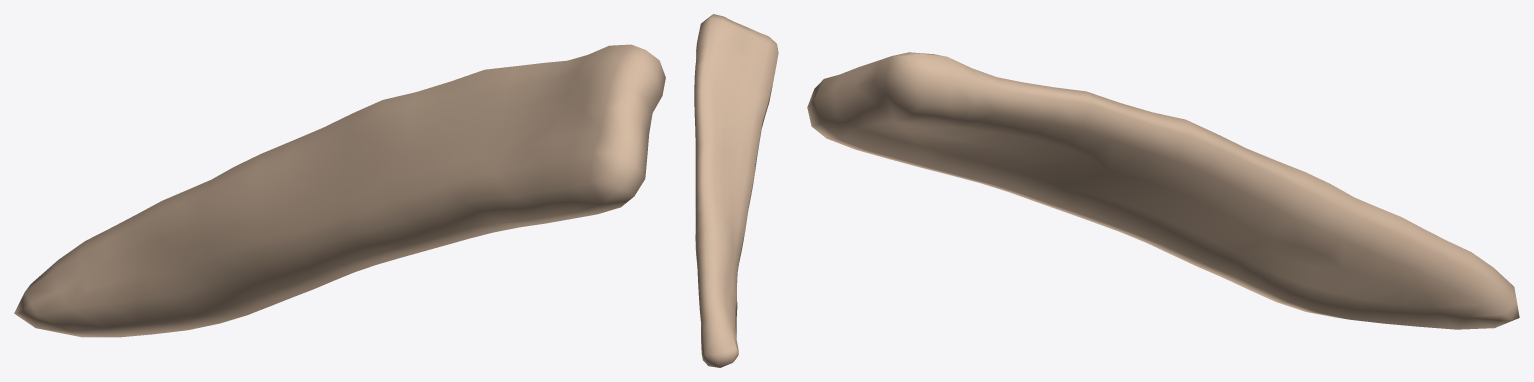
The picture shows the model from 3 angles, left to right: view 1: azimuth 30°, elevation 25°; view 2: azimuth 150°, elevation 25°; view 3: azimuth 270°, elevation 25°; orthographic projection. The views are drawn at different scales.
Visible parts, largest first — view 1: 右侧拇长展肌与拇短伸肌腱鞘; view 2: 右侧拇长展肌与拇短伸肌腱鞘; view 3: 右侧拇长展肌与拇短伸肌腱鞘.
Boxes of the visible parts, x1,y1,x2,y2 form: 右侧拇长展肌与拇短伸肌腱鞘: [14, 44, 665, 337]; 右侧拇长展肌与拇短伸肌腱鞘: [694, 14, 778, 367]; 右侧拇长展肌与拇短伸肌腱鞘: [807, 52, 1519, 329].
Bounding box in the file's own units: 0.042 × 0.0467 × 0.0724.
